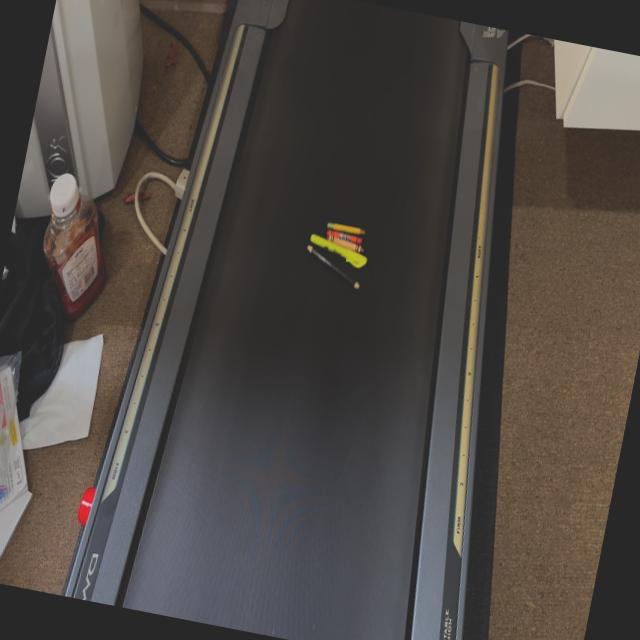Trash: (300, 214, 375, 294)
